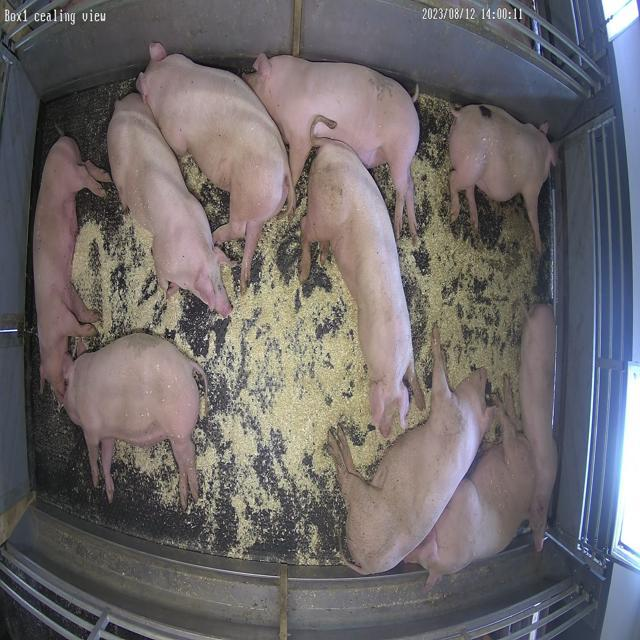Dirt: (490, 196, 531, 232)
Pig: (329, 329, 493, 576), (137, 43, 294, 290), (300, 141, 416, 438), (245, 54, 420, 236), (107, 93, 232, 316), (63, 334, 207, 510), (406, 406, 536, 590), (32, 136, 110, 402), (450, 104, 557, 252), (521, 304, 559, 552)
